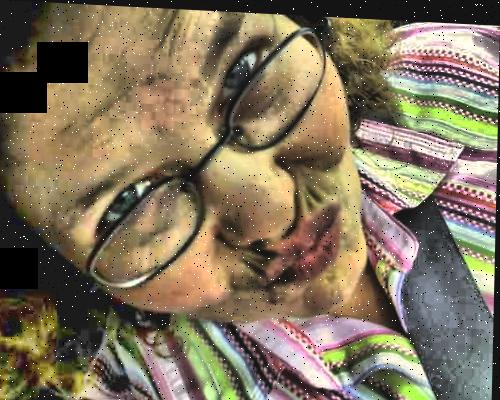seatbelt: (342, 75, 494, 382)
